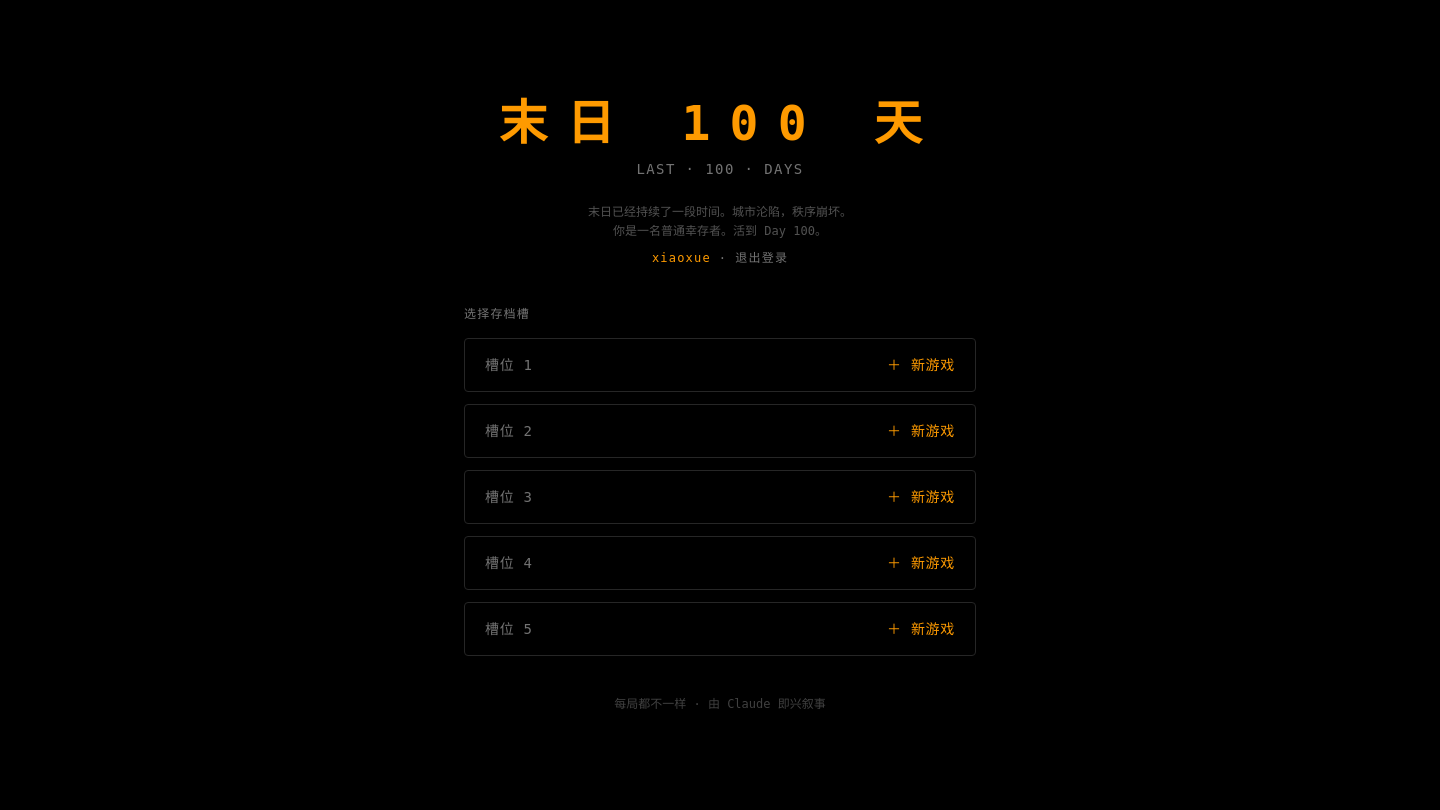
Scenario: App — gameplay (after login) › shows game over pane when state.isGameOver becomes true
Click the button with test id "slot-1" at (504, 364), box [464,338,976,392]
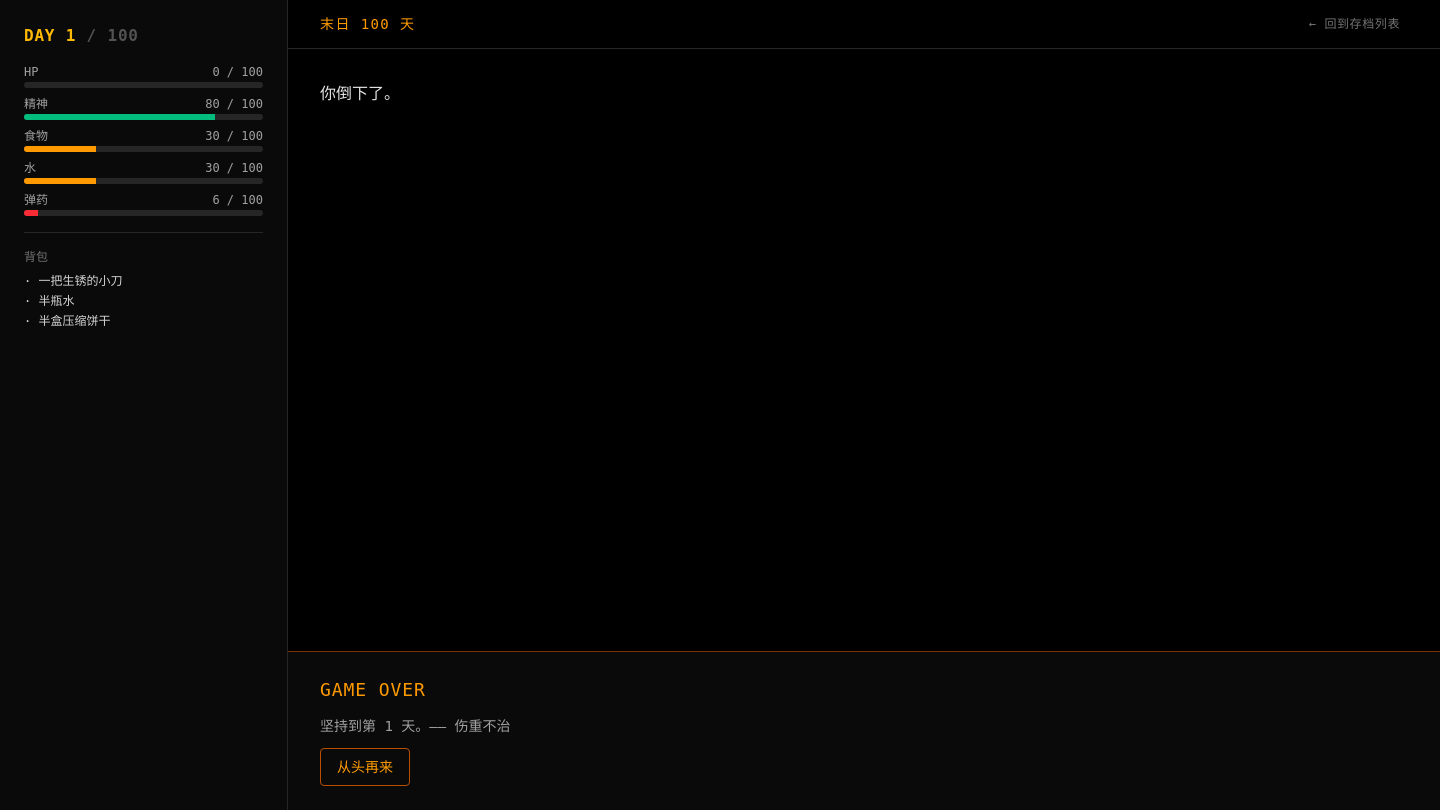
Now the element with test id "game-over" is shown, box [288,651,1439,809]
